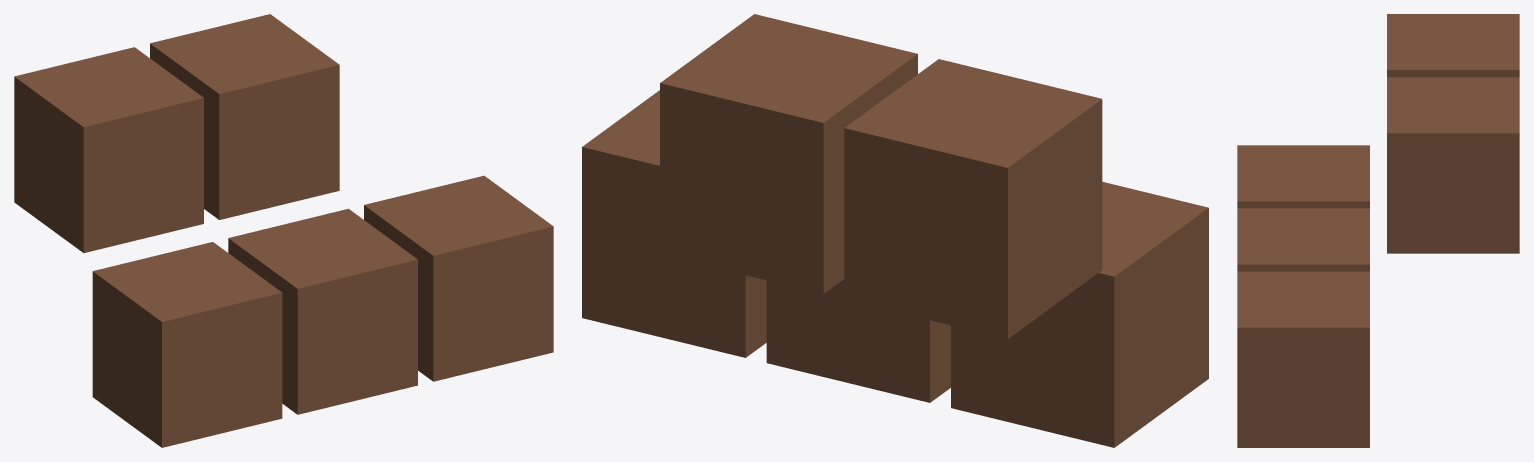
File: bh_souq_crate_set_01_lod0.glb
3 renders of one model, left to right at view 1: azimuth 30°, elevation 25°; view 2: azimuth 150°, elevation 25°; view 3: azimuth 270°, elevation 25°, orthographic. The views are drawn at different scales.
Parts seen in each view (by area): view 1: bh_souq_crate_set_01_crate_00, bh_souq_crate_set_01_crate_03, bh_souq_crate_set_01_crate_04, bh_souq_crate_set_01_crate_02, bh_souq_crate_set_01_crate_01; view 2: bh_souq_crate_set_01_crate_03, bh_souq_crate_set_01_crate_04, bh_souq_crate_set_01_crate_00, bh_souq_crate_set_01_crate_02, bh_souq_crate_set_01_crate_01; view 3: bh_souq_crate_set_01_crate_02, bh_souq_crate_set_01_crate_04, bh_souq_crate_set_01_crate_00, bh_souq_crate_set_01_crate_01, bh_souq_crate_set_01_crate_03.
Part boxes in pixels (box(x1,y1,x2,y2)): bh_souq_crate_set_01_crate_00: box(92, 242, 282, 447); bh_souq_crate_set_01_crate_03: box(14, 47, 203, 252); bh_souq_crate_set_01_crate_04: box(150, 14, 339, 219); bh_souq_crate_set_01_crate_02: box(364, 175, 553, 381); bh_souq_crate_set_01_crate_01: box(228, 208, 417, 414); bh_souq_crate_set_01_crate_03: box(844, 59, 1102, 338); bh_souq_crate_set_01_crate_04: box(660, 14, 917, 293); bh_souq_crate_set_01_crate_00: box(951, 181, 1208, 447); bh_souq_crate_set_01_crate_02: box(582, 90, 766, 357); bh_souq_crate_set_01_crate_01: box(766, 279, 950, 402); bh_souq_crate_set_01_crate_02: box(1237, 271, 1369, 447); bh_souq_crate_set_01_crate_04: box(1387, 77, 1519, 253); bh_souq_crate_set_01_crate_00: box(1237, 145, 1369, 208); bh_souq_crate_set_01_crate_01: box(1237, 208, 1369, 271); bh_souq_crate_set_01_crate_03: box(1387, 14, 1519, 77).
Size of the model in its own units: 1.79 by 1.15 by 1.17.
